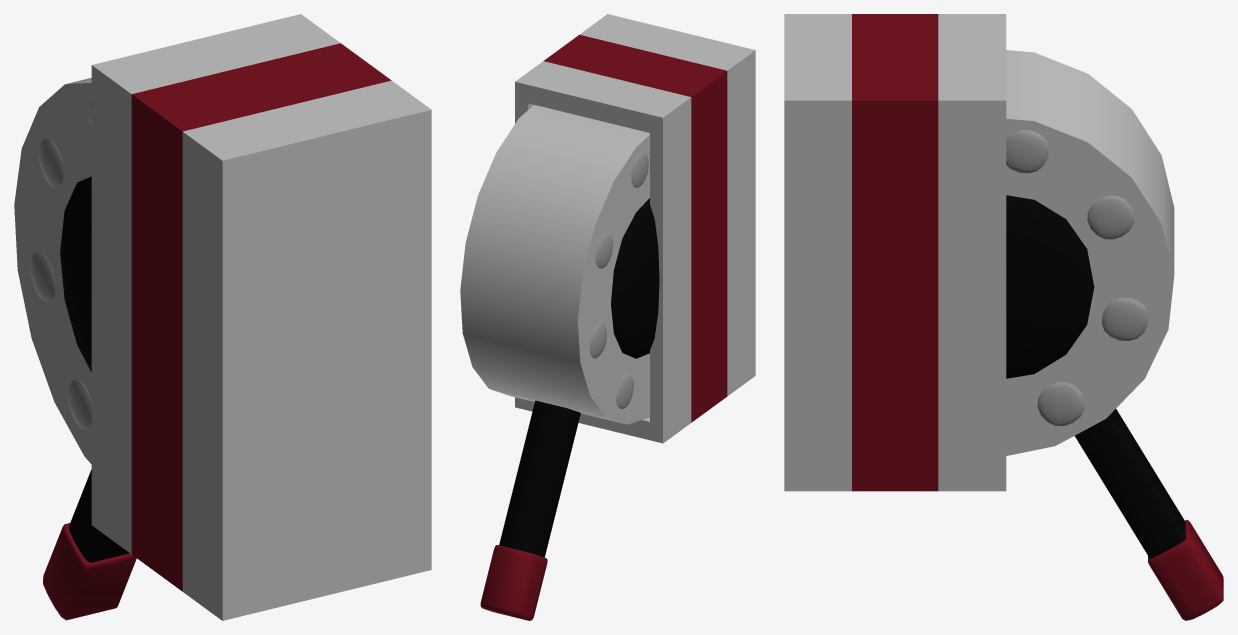
File: lever.fbx
3 views of the same model, side by side, from view 1: azimuth 30°, elevation 25°; view 2: azimuth 150°, elevation 25°; view 3: azimuth 270°, elevation 25° (orthographic). The views are drawn at different scales.
Parts seen in each view (by area): view 1: lever, wheel; view 2: wheel, lever; view 3: lever, wheel.
Boxes of the visible parts, <box> form: lever: <box>60,14,431,620</box>; wheel: <box>14,78,136,620</box>; wheel: <box>460,105,649,620</box>; lever: <box>515,14,755,443</box>; lever: <box>784,14,1094,491</box>; wheel: <box>1006,50,1223,620</box>.
Bounding box in the file's own units: 78.65 × 169 × 234.
